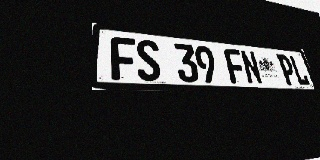3: (174, 43, 200, 82)
9: (194, 45, 219, 83)
F: (110, 36, 137, 81), (223, 48, 248, 84)
L: (288, 55, 311, 86)
N: (239, 50, 263, 84)
P: (276, 54, 298, 85)
S: (135, 39, 162, 81)
